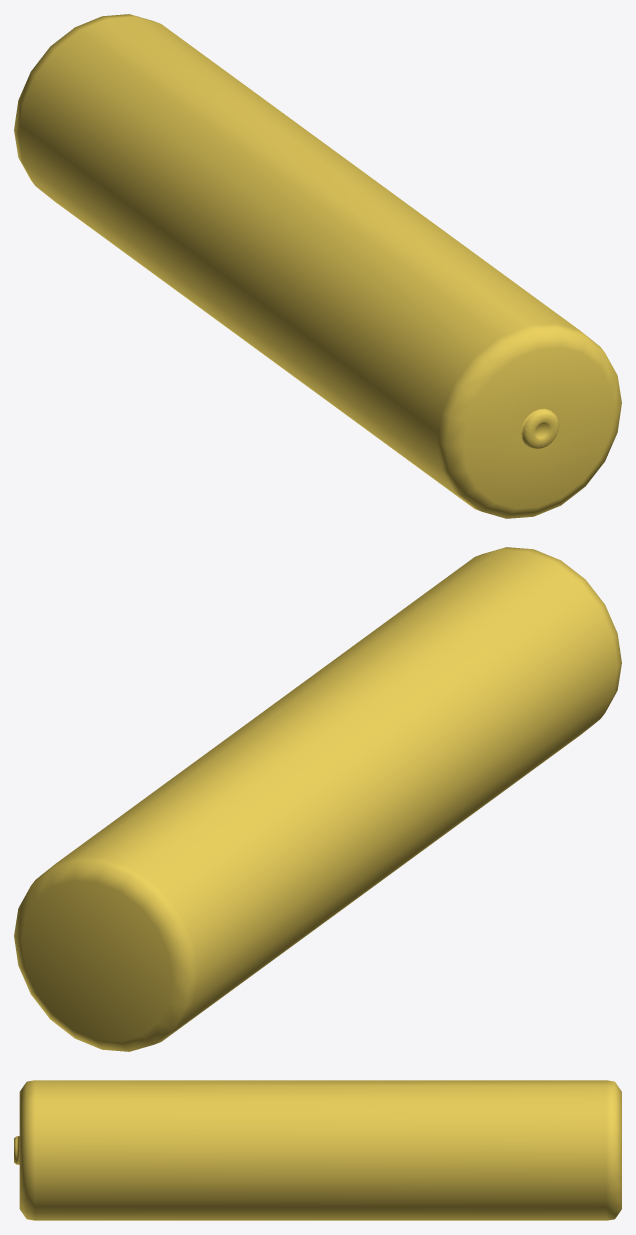
The model's file is Truck_Storage_Tank_01.fbx.
3 views of the same model, one above another, from view 1: azimuth 30°, elevation 25°; view 2: azimuth 150°, elevation 25°; view 3: azimuth 270°, elevation 25° (orthographic). The views are drawn at different scales.
Parts seen in each view (by area): view 1: Truck_Storage_Tank_01; view 2: Truck_Storage_Tank_01; view 3: Truck_Storage_Tank_01.
Part boxes in pixels (x1,y1,x2,y2): Truck_Storage_Tank_01: (14, 14, 621, 518); Truck_Storage_Tank_01: (14, 547, 621, 1051); Truck_Storage_Tank_01: (14, 1080, 621, 1220).
Size of the model in its own units: 357 by 357 by 1531.
